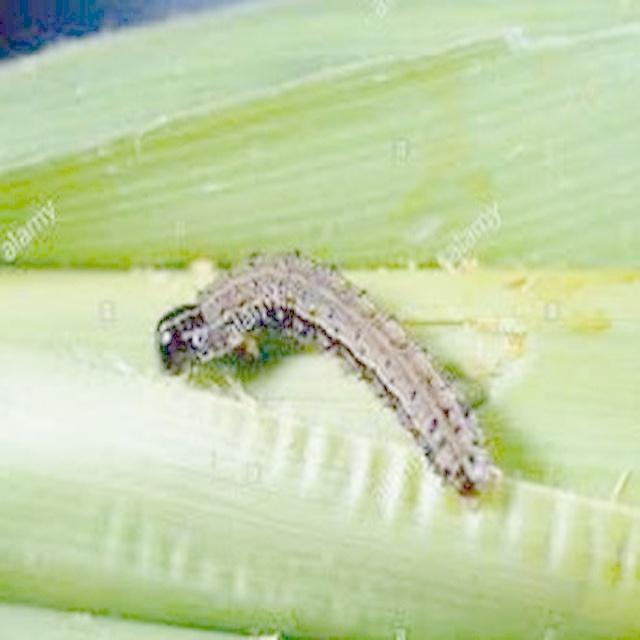gusano_cogollero: (152, 244, 502, 513)
